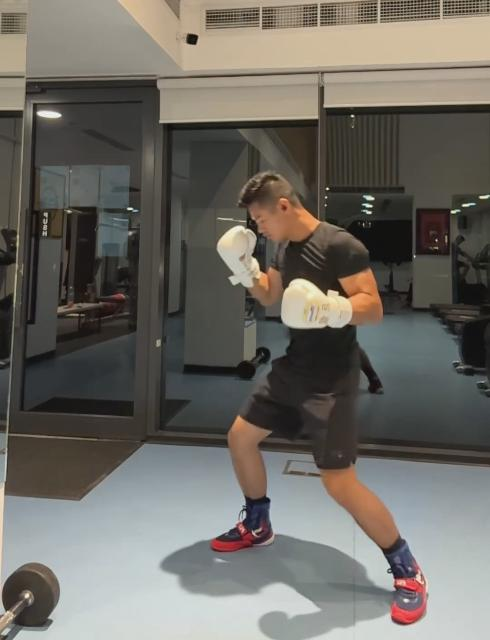punch: (212, 171, 430, 629)
